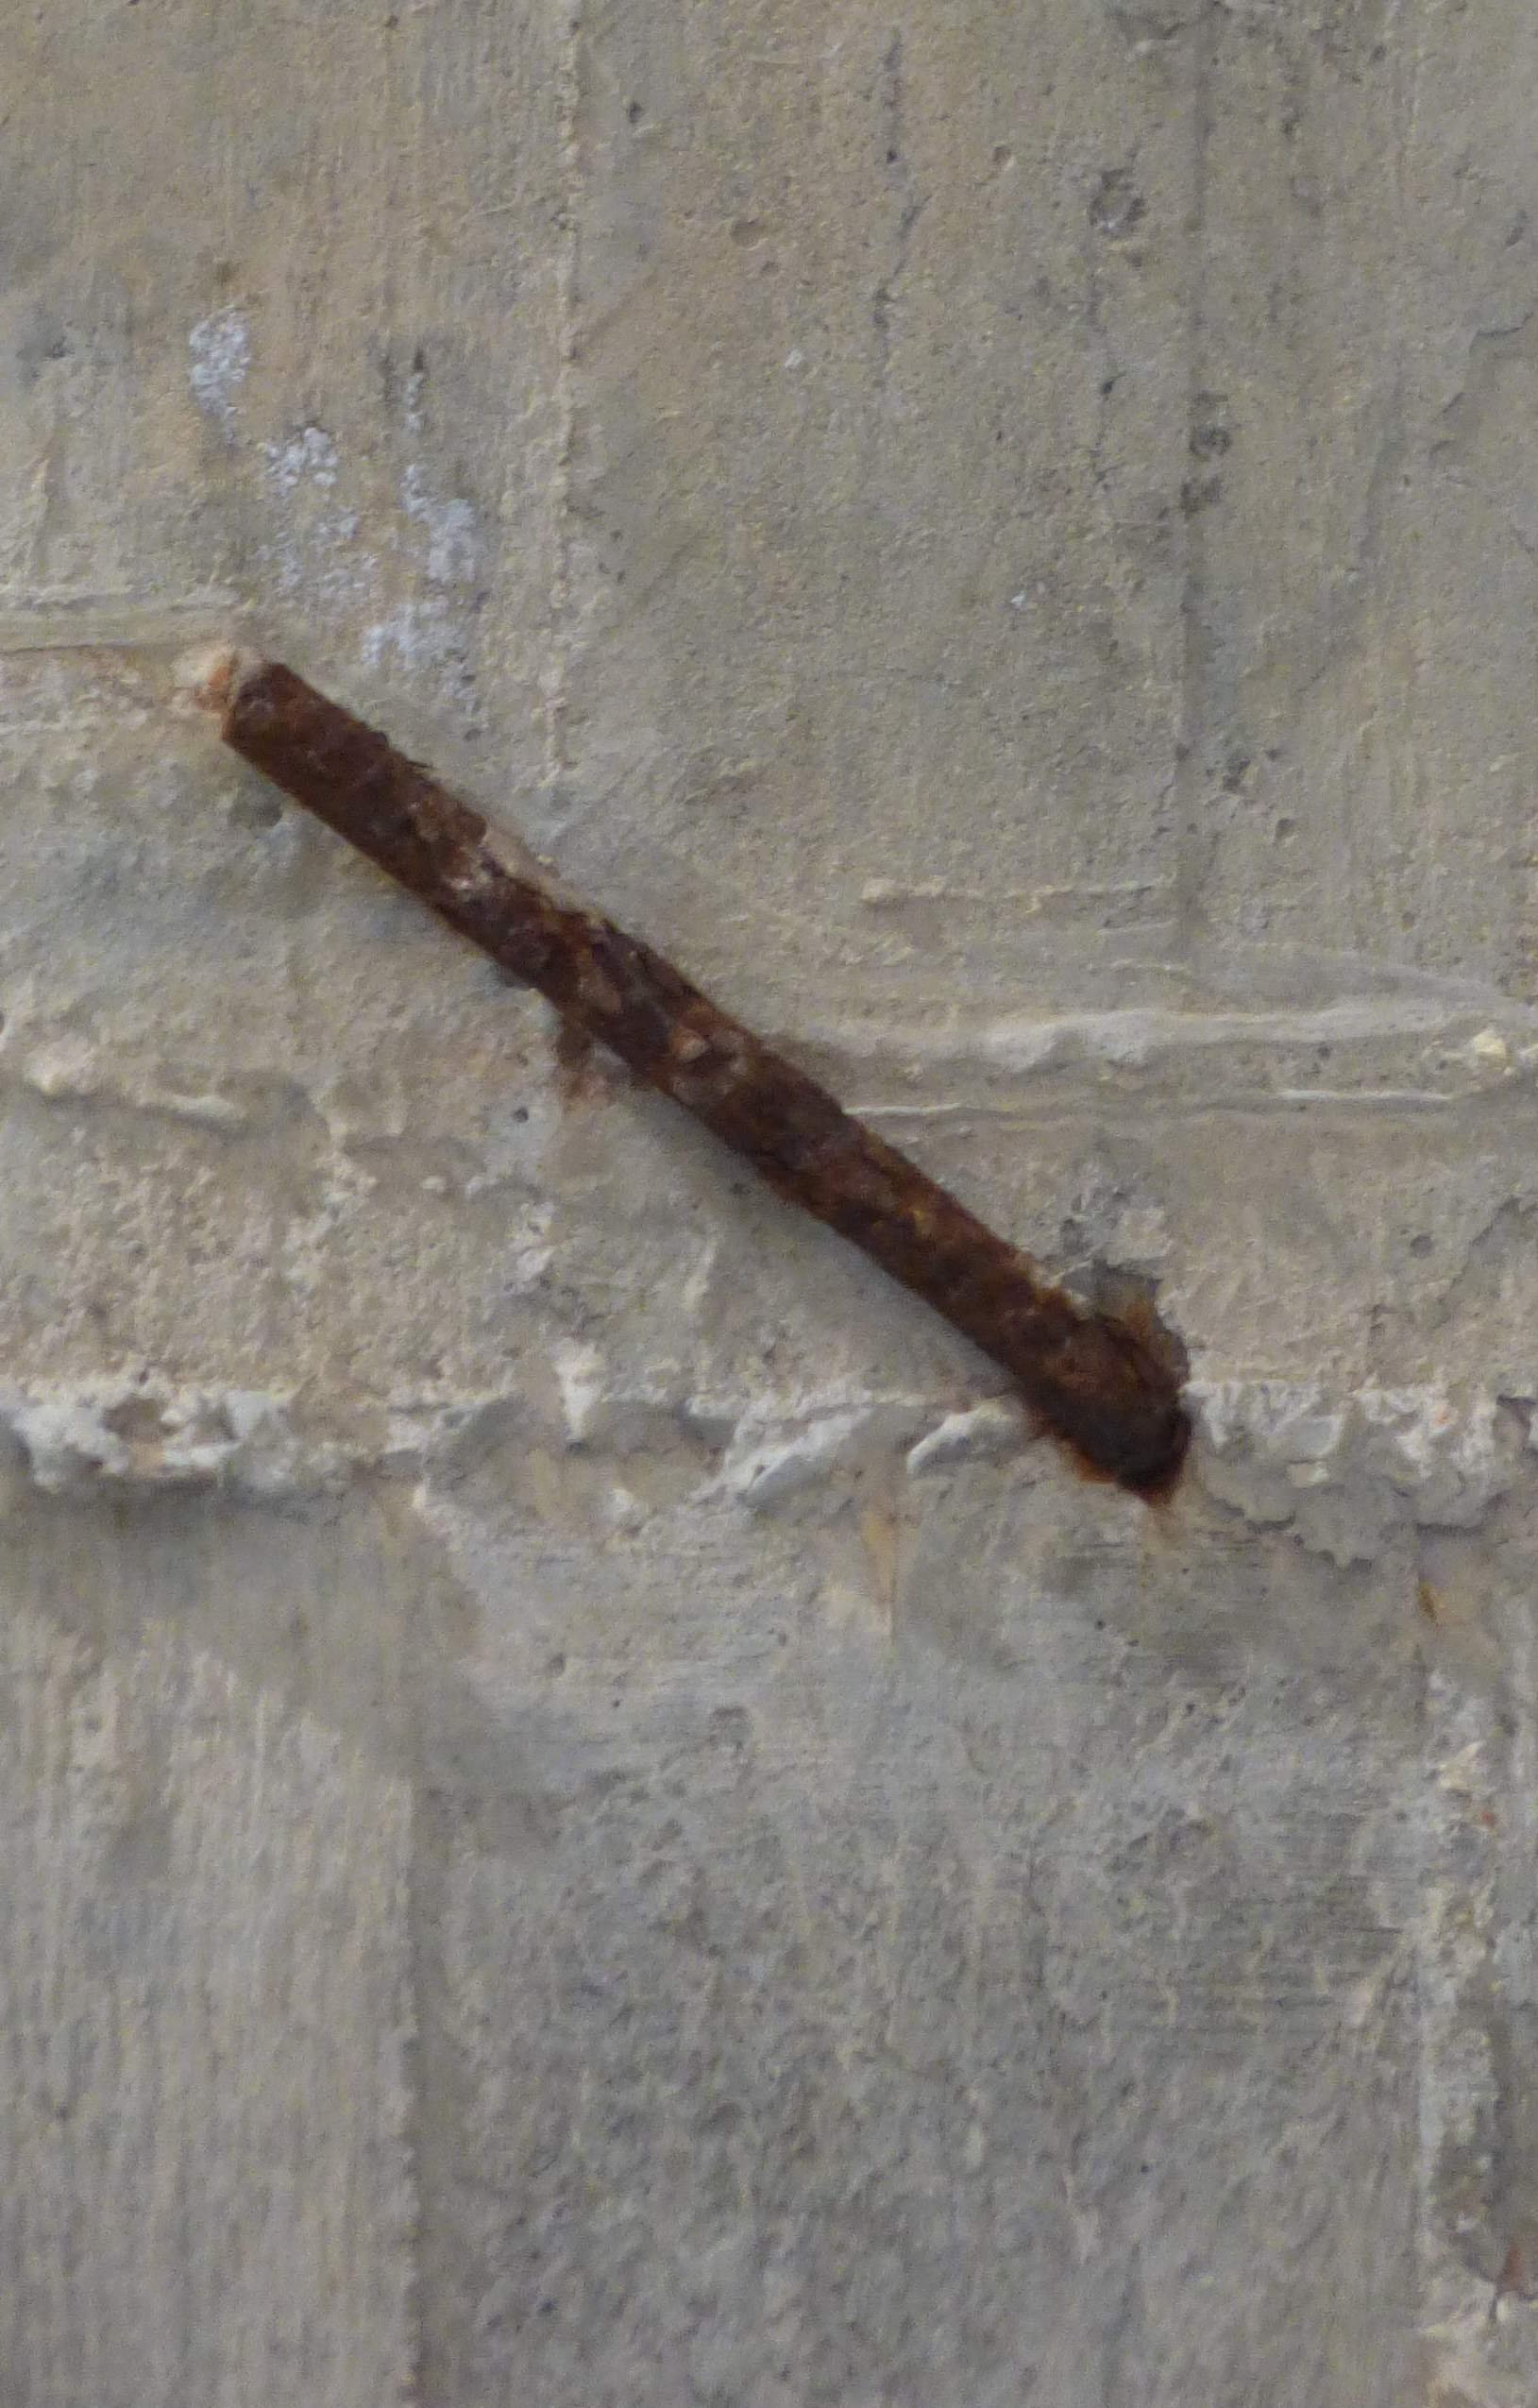Exposed reinforcement: (216, 656, 1180, 1499)
